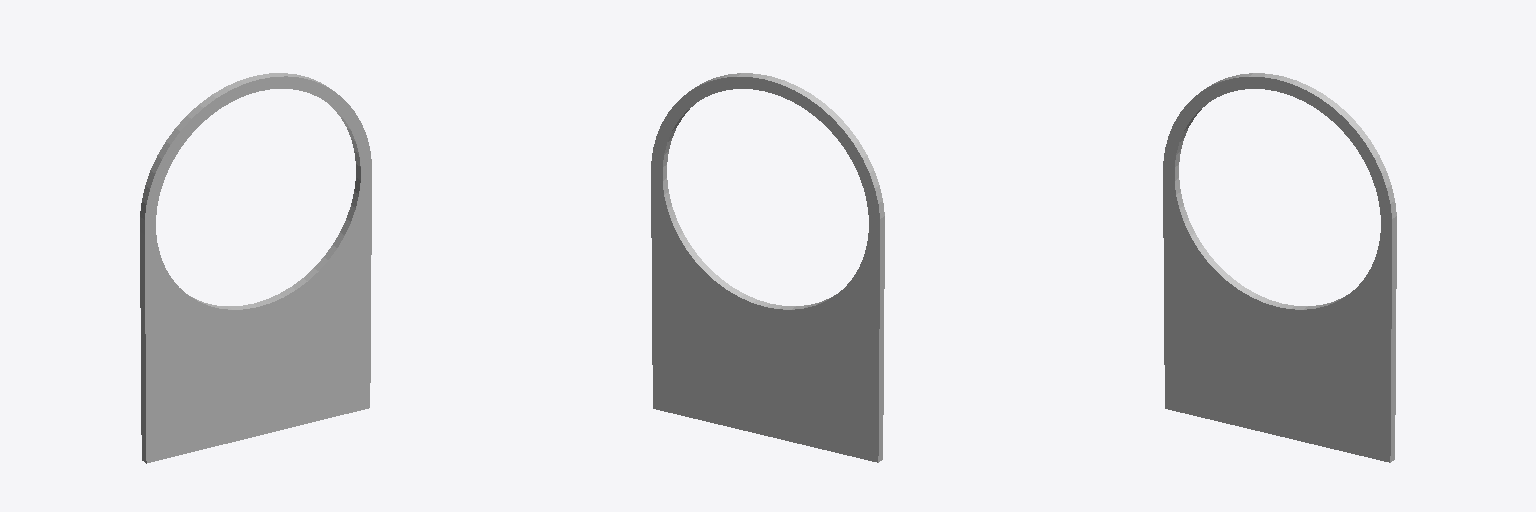
The model's file is Pedalier_Support.obj.
3 views of the same model, side by side, from view 1: azimuth 30°, elevation 25°; view 2: azimuth 150°, elevation 25°; view 3: azimuth 330°, elevation 25° (orthographic).
Visible parts, largest first — view 1: Pedalier_Support_Socle_Circle.002; view 2: Pedalier_Support_Socle_Circle.002; view 3: Pedalier_Support_Socle_Circle.002.
Part boxes in pixels (left/top/right/bottom): Pedalier_Support_Socle_Circle.002: left=140, top=73, right=371, bottom=463; Pedalier_Support_Socle_Circle.002: left=651, top=73, right=884, bottom=462; Pedalier_Support_Socle_Circle.002: left=1163, top=73, right=1396, bottom=462.
Bounding box in the file's own units: 1.19 × 1.77 × 0.0513.